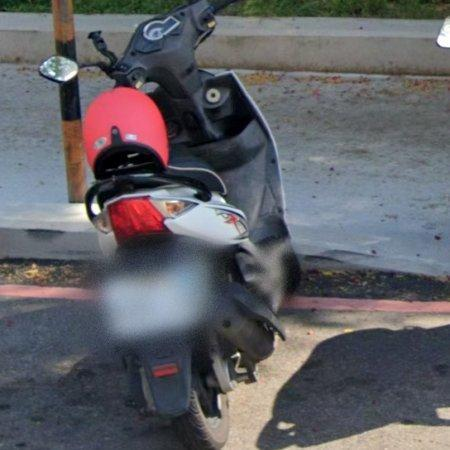motorcycles: (84, 0, 302, 450)
